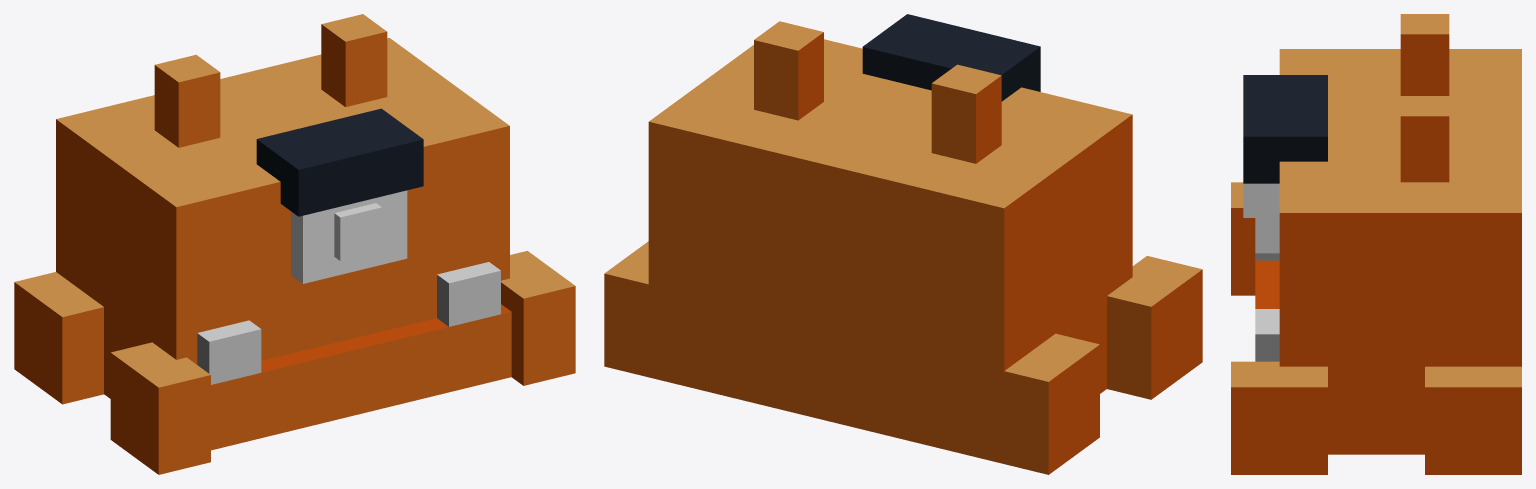
The model's file is EN_BigBit_Orange.fbx.
3 views of the same model, side by side, from view 1: azimuth 30°, elevation 25°; view 2: azimuth 150°, elevation 25°; view 3: azimuth 270°, elevation 25° (orthographic). The views are drawn at different scales.
Parts seen in each view (by area): view 1: Body, Jaw, Eyebrow, Feet_F_Right, Antennae, Feet_R_Right, Feet_F_Left, Eye, Pupil; view 2: Body, Antennae, Feet_F_Right, Feet_R_Right, Eyebrow, Feet_R_Left; view 3: Body, Feet_F_Left, Feet_R_Left, Antennae, Eyebrow, Jaw, Feet_F_Right, Eye, Pupil.
Part boxes in pixels (x1=…): Body: x1=56, y1=38, x2=509, y2=398; Jaw: x1=197, y1=262, x2=511, y2=450; Eyebrow: x1=256, y1=108, x2=423, y2=216; Feet_F_Right: x1=110, y1=342, x2=210, y2=474; Antennae: x1=154, y1=14, x2=387, y2=147; Feet_R_Right: x1=14, y1=272, x2=103, y2=404; Feet_F_Left: x1=501, y1=251, x2=575, y2=385; Eye: x1=291, y1=190, x2=407, y2=283; Pupil: x1=334, y1=203, x2=381, y2=260; Body: x1=648, y1=39, x2=1132, y2=463; Antennae: x1=754, y1=21, x2=1001, y2=163; Feet_F_Right: x1=1107, y1=256, x2=1202, y2=399; Feet_R_Right: x1=994, y1=333, x2=1099, y2=474; Eyebrow: x1=862, y1=14, x2=1040, y2=101; Feet_R_Left: x1=604, y1=241, x2=648, y2=377; Body: x1=1279, y1=49, x2=1521, y2=454; Feet_F_Left: x1=1231, y1=361, x2=1327, y2=474; Feet_R_Left: x1=1425, y1=366, x2=1521, y2=474; Antennae: x1=1400, y1=14, x2=1449, y2=182; Eyebrow: x1=1243, y1=75, x2=1327, y2=183; Jaw: x1=1255, y1=253, x2=1279, y2=361; Feet_F_Right: x1=1231, y1=182, x2=1255, y2=295; Eye: x1=1255, y1=183, x2=1279, y2=253; Pupil: x1=1243, y1=183, x2=1255, y2=217.
Size of the model in its own units: 100 by 70 by 60.
